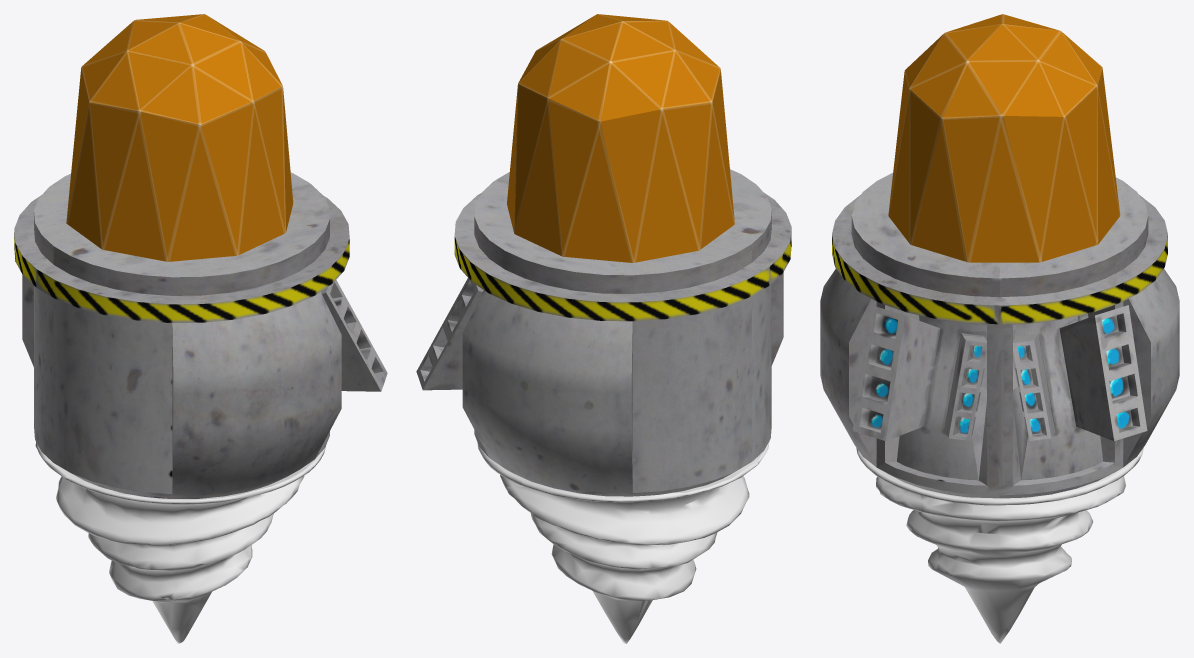
The model's file is drillEngineBlockTotal.fbx.
The picture shows the model from 3 angles, left to right: view 1: azimuth 30°, elevation 25°; view 2: azimuth 150°, elevation 25°; view 3: azimuth 270°, elevation 25°; orthographic projection.
Visible parts, largest first — view 1: Cylinder, Icosphere, Circle; view 2: Cylinder, Icosphere, Circle; view 3: Cylinder, Icosphere, Circle.
Boxes of the visible parts, x1=… form: Cylinder: x1=14, y1=172, x2=387, y2=498; Icosphere: x1=66, y1=14, x2=293, y2=261; Circle: x1=35, y1=442, x2=325, y2=643; Cylinder: x1=416, y1=169, x2=791, y2=496; Icosphere: x1=507, y1=14, x2=734, y2=262; Circle: x1=477, y1=441, x2=769, y2=643; Cylinder: x1=820, y1=173, x2=1179, y2=498; Icosphere: x1=888, y1=14, x2=1120, y2=262; Circle: x1=856, y1=448, x2=1143, y2=643.
Bounding box in the file's own units: 292 × 588 × 309.
